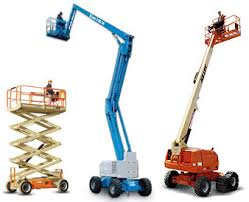Scissor Lift: (5, 84, 69, 194)
